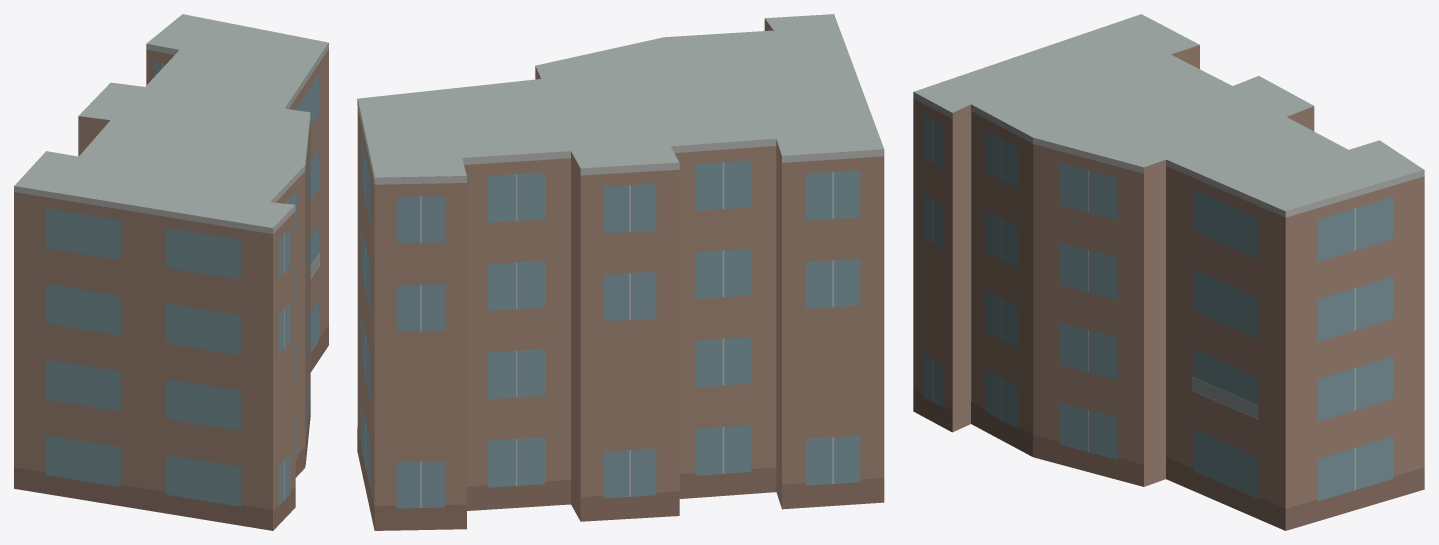
The model's file is survey-upis-32695575.glb.
3 renders of one model, left to right at view 1: azimuth 30°, elevation 25°; view 2: azimuth 150°, elevation 25°; view 3: azimuth 270°, elevation 25°, orthographic. The views are drawn at different scales.
Parts seen in each view (by area): view 1: survey-upis-32695575.tmp; view 2: survey-upis-32695575.tmp; view 3: survey-upis-32695575.tmp.
Boxes of the visible parts, x1,y1,x2,y2 form: survey-upis-32695575.tmp: [14, 14, 328, 530]; survey-upis-32695575.tmp: [357, 14, 884, 530]; survey-upis-32695575.tmp: [913, 14, 1424, 530].
Size of the model in its own units: 16.16 by 12.2 by 17.69.
